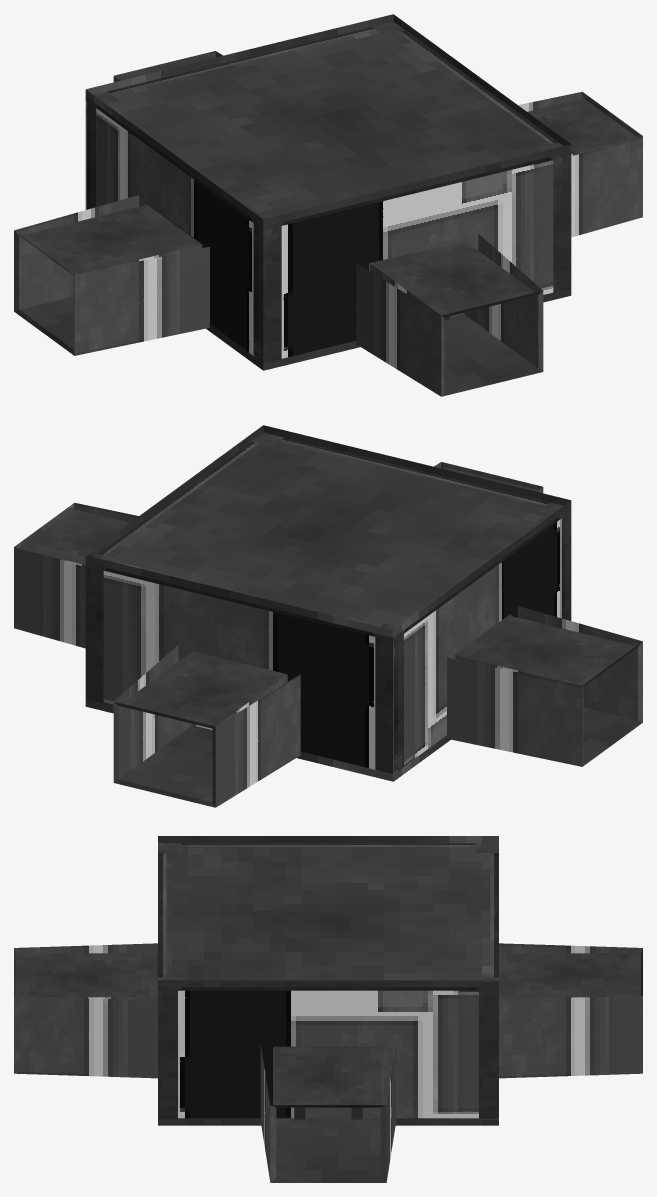
Rendered from Room_Bend.fbx.
The picture shows the model from 3 angles, top to bottom: view 1: azimuth 30°, elevation 25°; view 2: azimuth 150°, elevation 25°; view 3: azimuth 270°, elevation 25°; orthographic projection. The views are drawn at different scales.
Parts seen in each view (by area): view 1: Room_Exit_Bend_V5; view 2: Room_Exit_Bend_V5; view 3: Room_Exit_Bend_V5.
Part boxes in pixels (left/top/right/bottom): Room_Exit_Bend_V5: left=14, top=14, right=642, bottom=396; Room_Exit_Bend_V5: left=14, top=425, right=642, bottom=807; Room_Exit_Bend_V5: left=14, top=836, right=642, bottom=1182.
Size of the model in its own units: 80.56 by 20.5 by 80.43.
